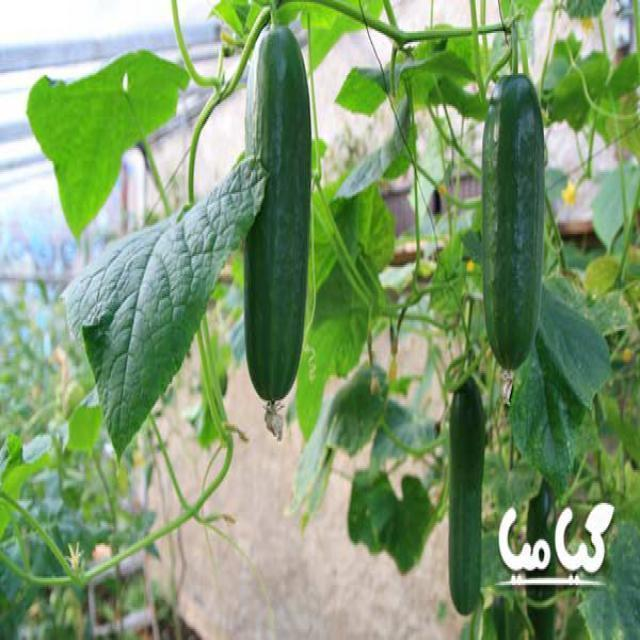cucumber: (240, 18, 313, 404), (478, 66, 548, 372), (444, 373, 486, 616)
